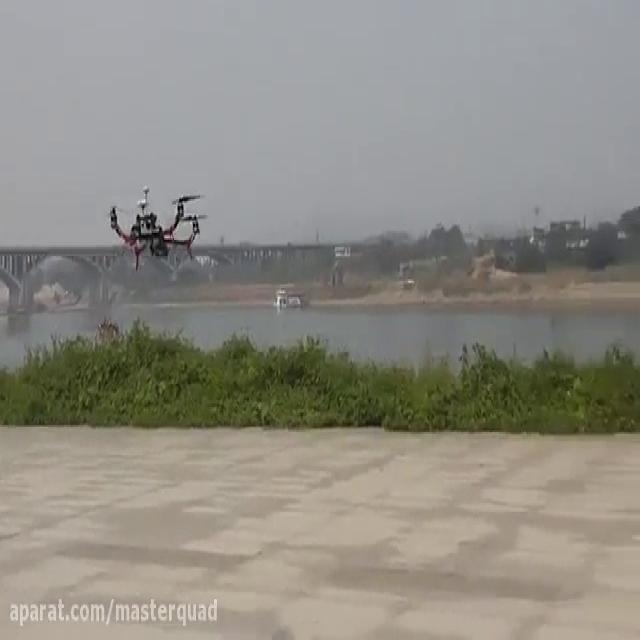drone: (99, 178, 211, 274)
